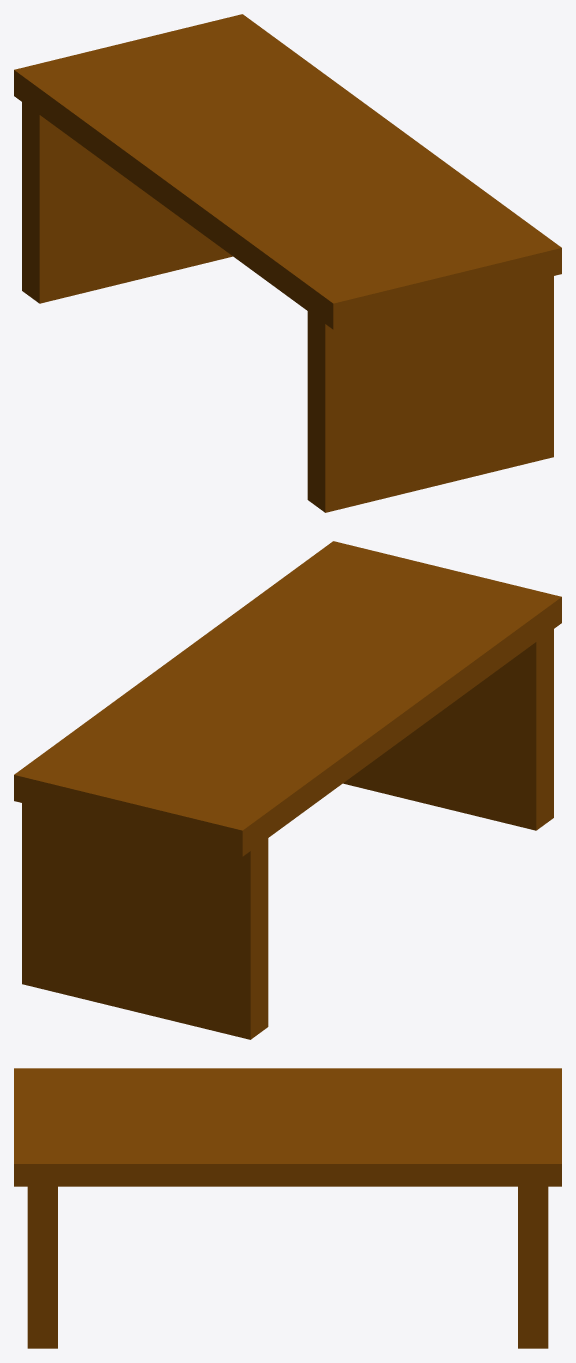
Rendered from table1.fbx.
3 views of the same model, one above another, from view 1: azimuth 30°, elevation 25°; view 2: azimuth 150°, elevation 25°; view 3: azimuth 270°, elevation 25° (orthographic). The views are drawn at different scales.
Visible parts, largest first — view 1: Cube; view 2: Cube; view 3: Cube.
Part boxes in pixels (x1,y1,x2,y2): Cube: [14, 14, 561, 512]; Cube: [14, 541, 561, 1039]; Cube: [14, 1068, 561, 1348].
Size of the model in its own units: 200 by 180 by 484.
